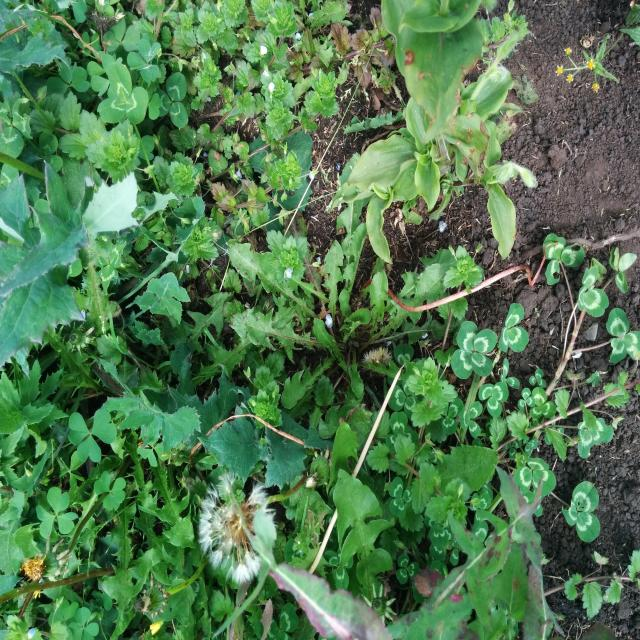Four Leaf Clover: (451, 321, 497, 378)
